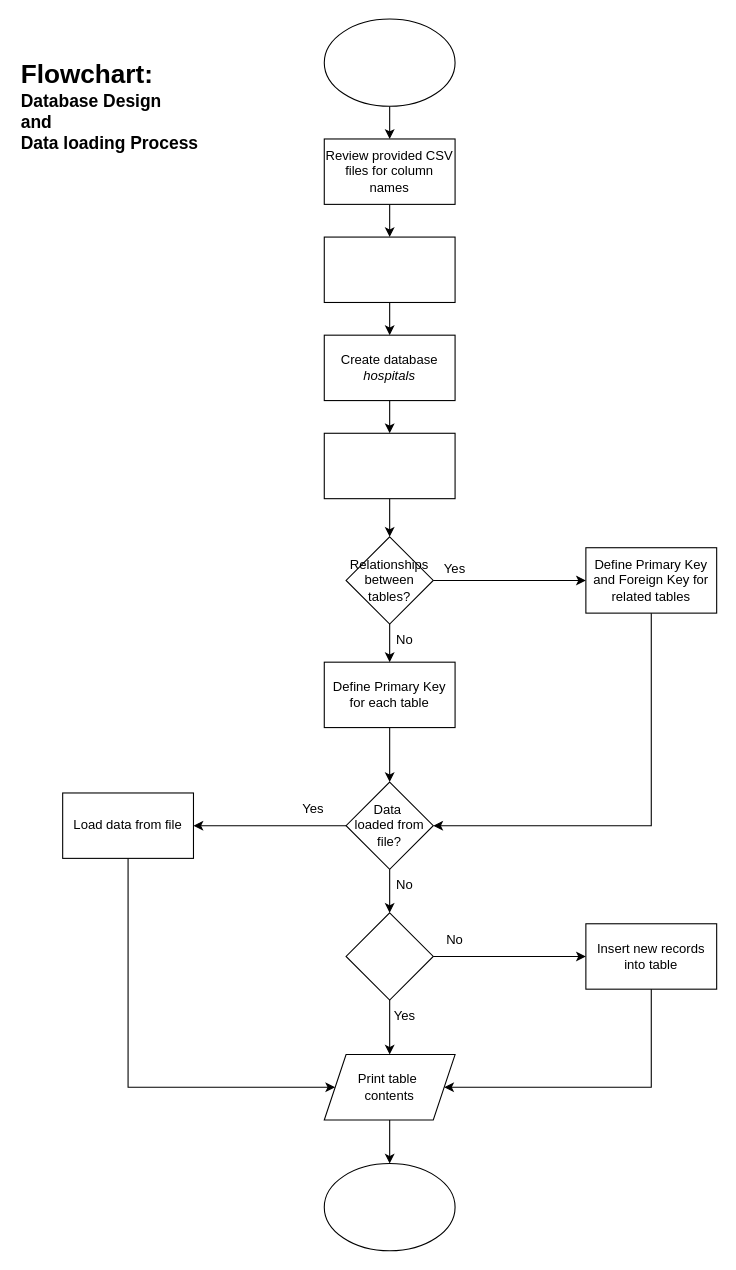
Some shapes in this 736 by 1270 pixel diagram are drawn without their labels. The centre of each missing label's shape, as x and y in pixels:
"BEGIN" goes at pixel 389 62.
"Data already in database?" goes at pixel 389 956.
"Design tables and choose datatypes" goes at pixel 389 465.
"END" goes at pixel 389 1206.
"Identify relationships between the data entities" goes at pixel 389 269.
